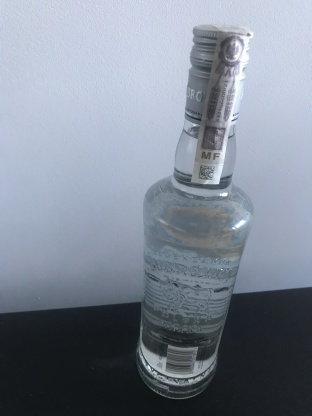nakretka: (181, 19, 255, 129)
